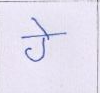e_matra: (32, 17, 50, 34)
